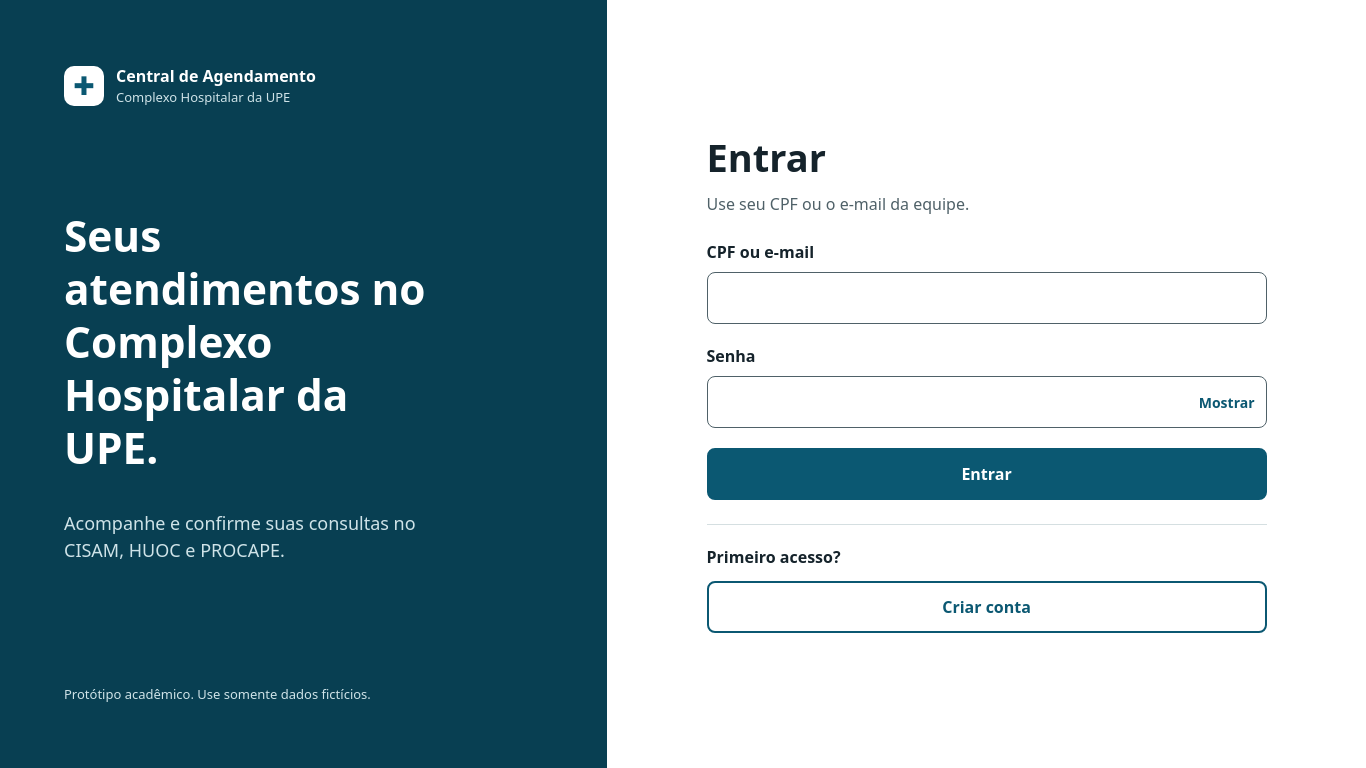
Scenario: ADR-003 — entrar › redireciona ATENDENTE para equipe
Step 1. Type "equipe@exemplo.test" into the field labelled "CPF ou e-mail" → (986, 298), box [706, 272, 1266, 324]
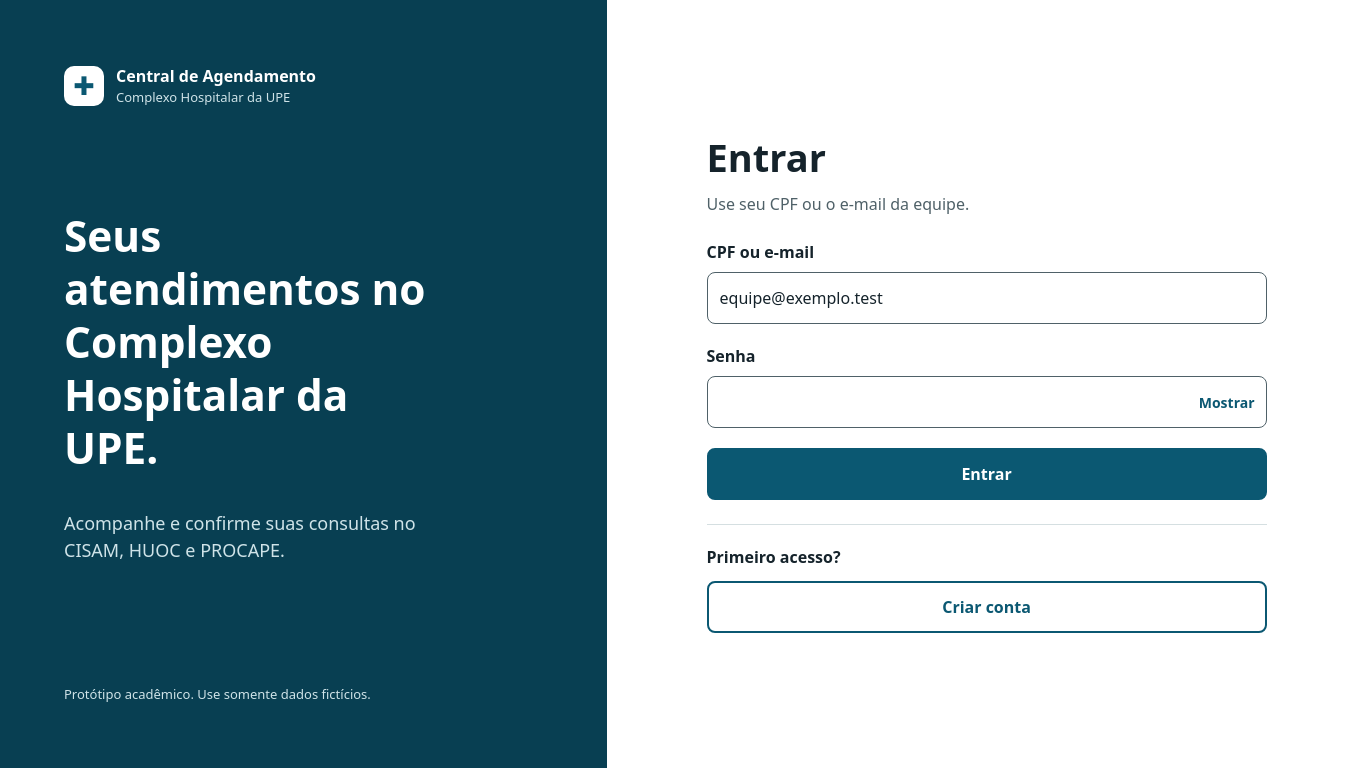
Step 2. Type "Sintetica!123" into the password field labelled "Senha" → (986, 402), box [706, 376, 1266, 428]
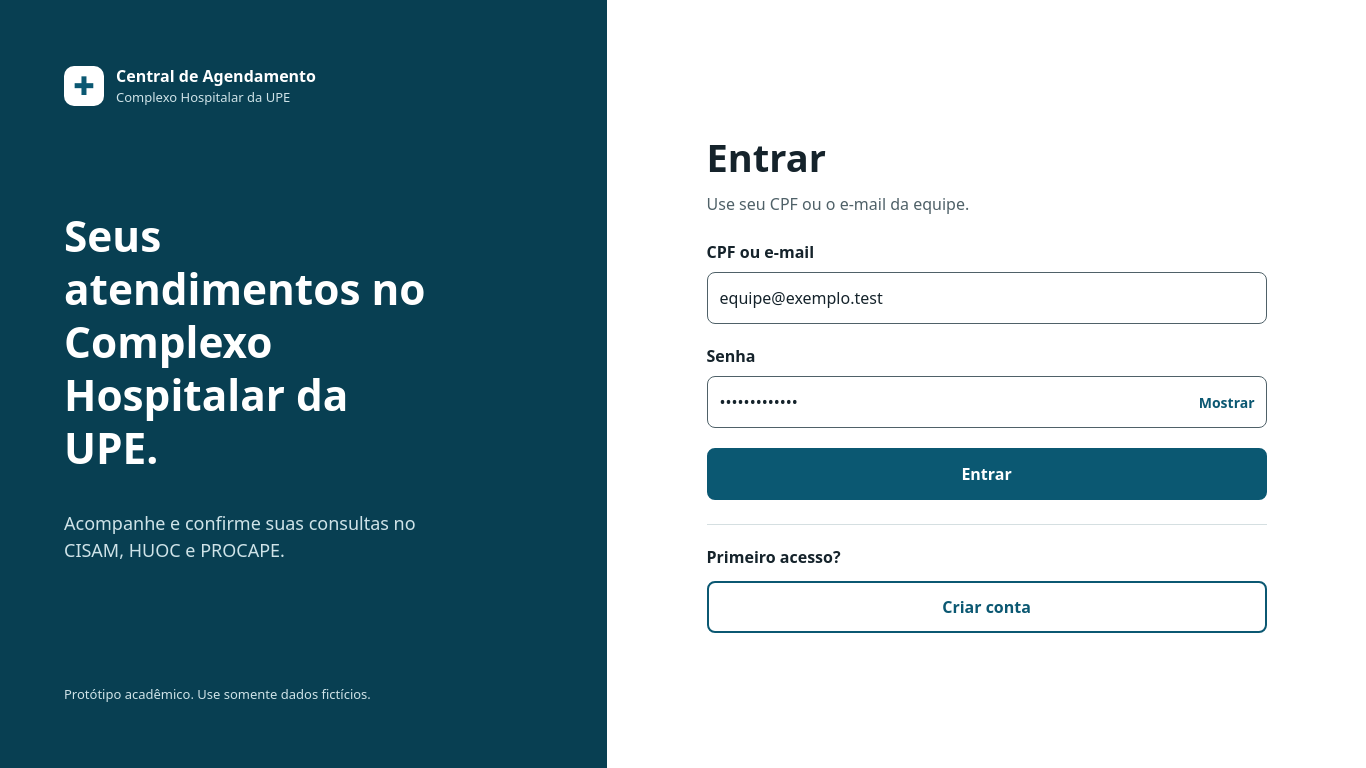
Step 3. Click the button "Entrar" → click(986, 474), box [706, 448, 1266, 500]
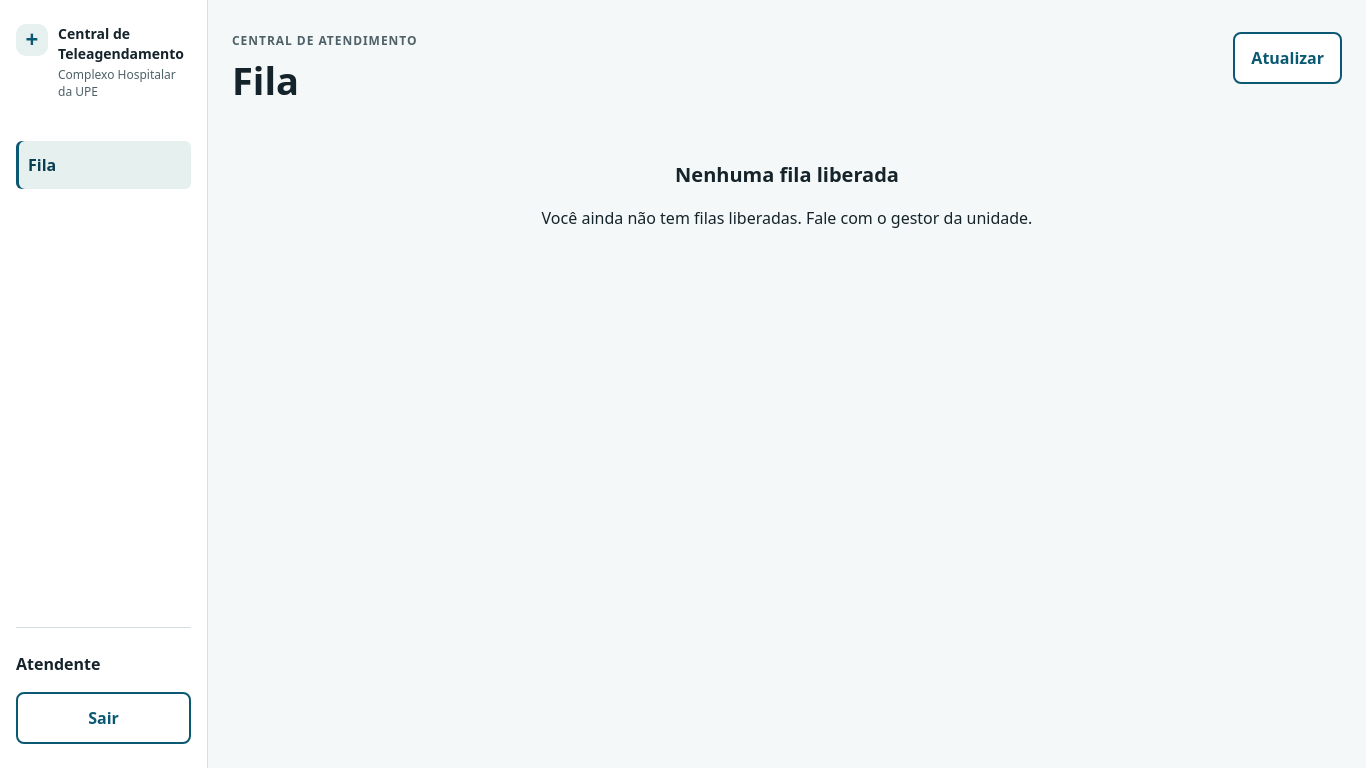
Now the element named "Área da equipe" is shown, box [232, 32, 1342, 229]
